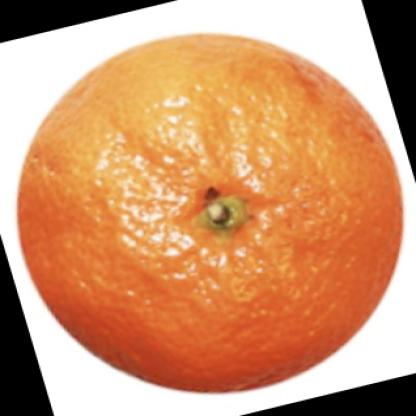orange: (14, 31, 403, 399)
